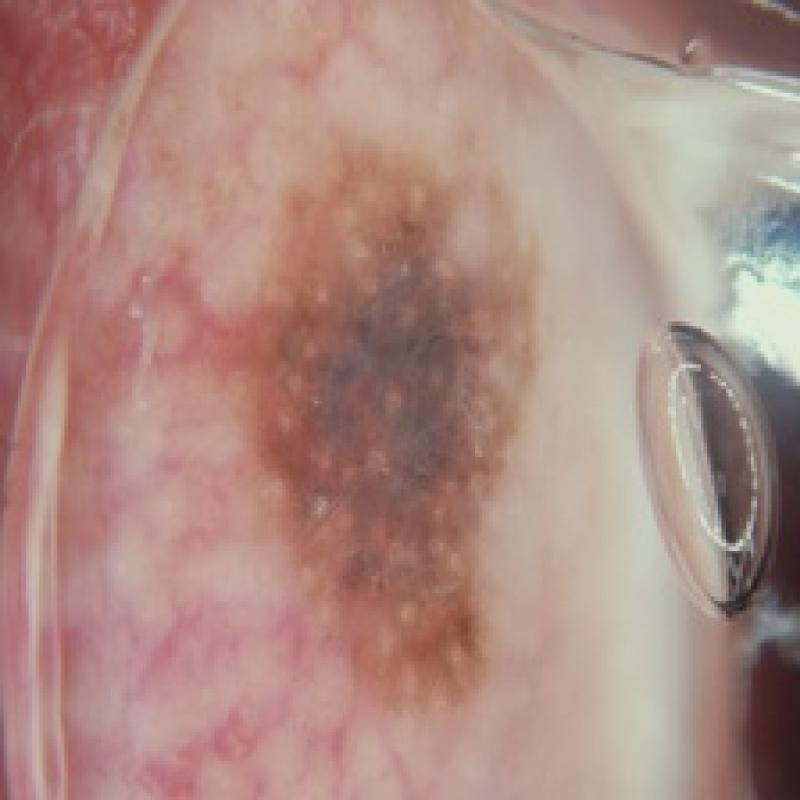malignant: (218, 138, 578, 718)
